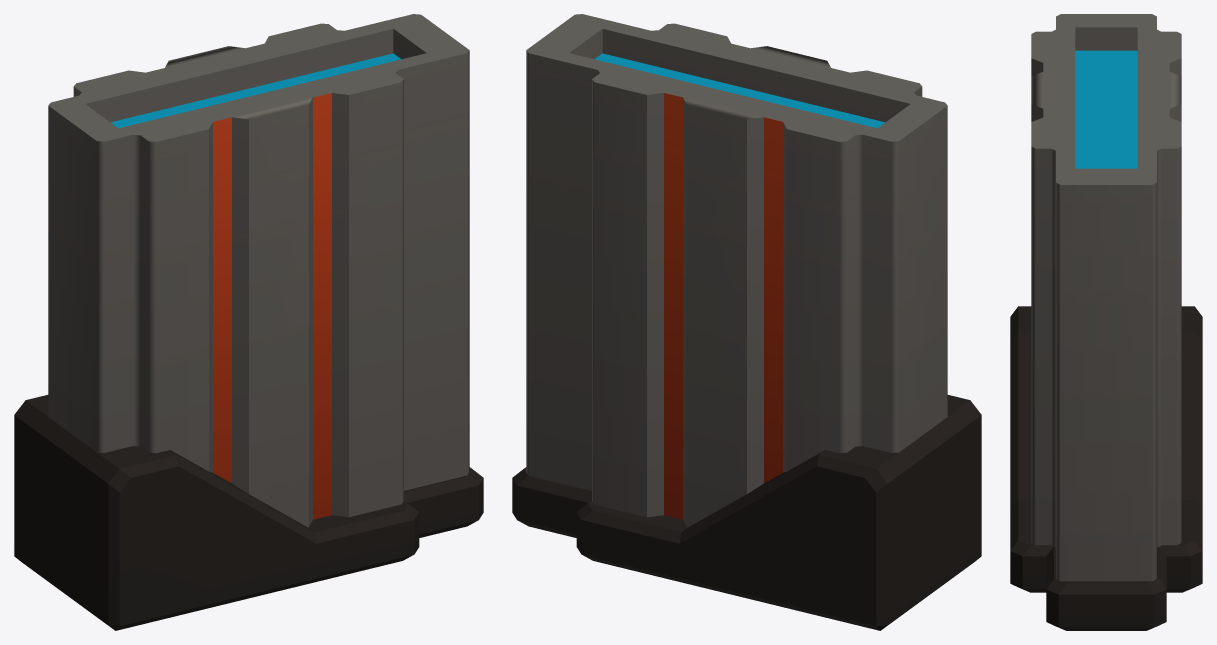
The model's file is Shotgun3_Magazine.fbx.
3 renders of one model, left to right at view 1: azimuth 30°, elevation 25°; view 2: azimuth 150°, elevation 25°; view 3: azimuth 270°, elevation 25°, orthographic. The views are drawn at different scales.
Visible parts, largest first — view 1: Shotgun3_Magazine; view 2: Shotgun3_Magazine; view 3: Shotgun3_Magazine.
Boxes of the visible parts, left/top/right/bottom form: Shotgun3_Magazine: left=14, top=14, right=483, bottom=630; Shotgun3_Magazine: left=512, top=14, right=981, bottom=630; Shotgun3_Magazine: left=1010, top=14, right=1202, bottom=630.
Bounding box in the file's own units: 7.8 × 8.87 × 3.49.
